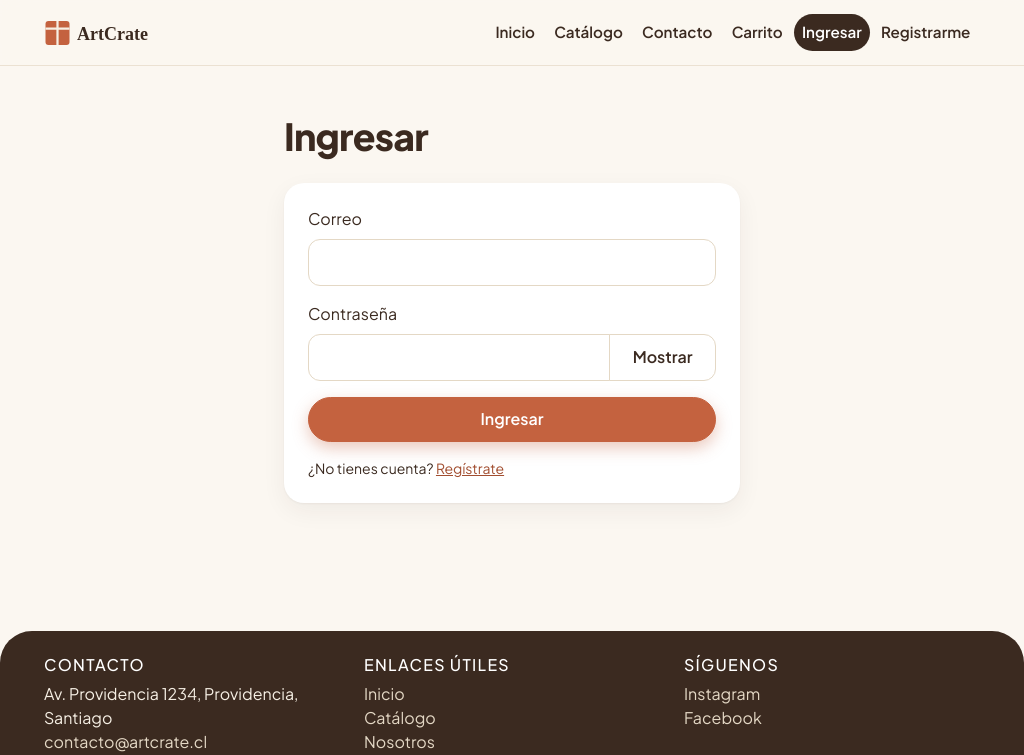
it: Login › sin contraseña no se intenta el ingreso
The image size is (1024, 755).
Type "camila@artcrate.cl" into the field labelled "Correo" at (512, 262), box [308,239,716,286]
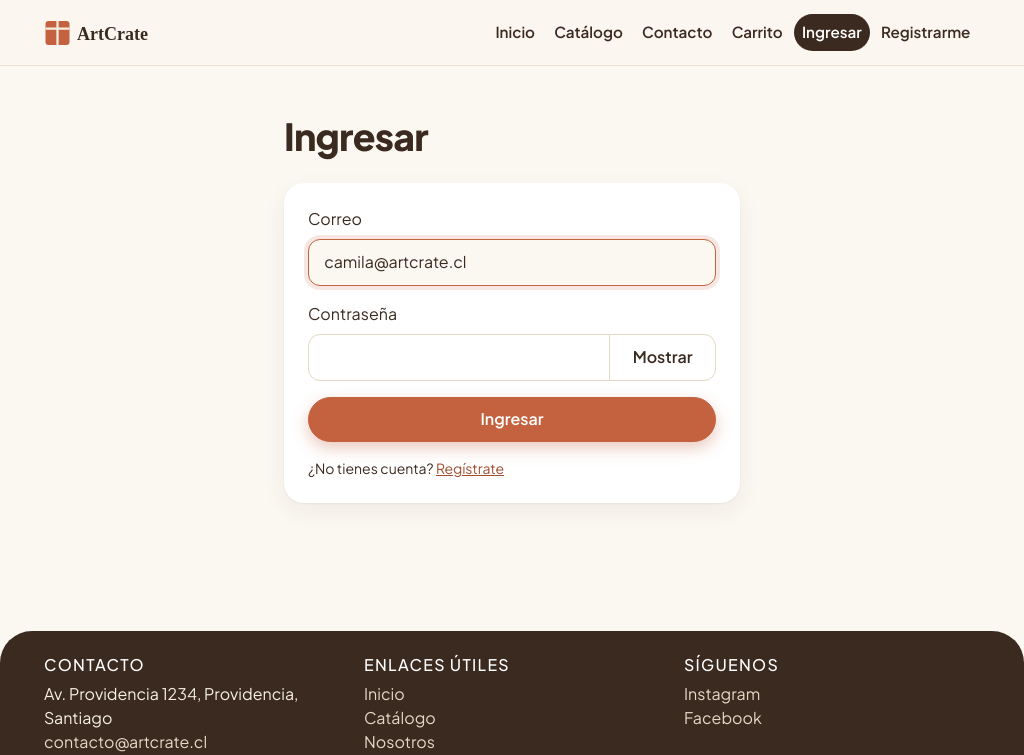
Click the button "Ingresar" at (512, 419), box [308,397,716,442]
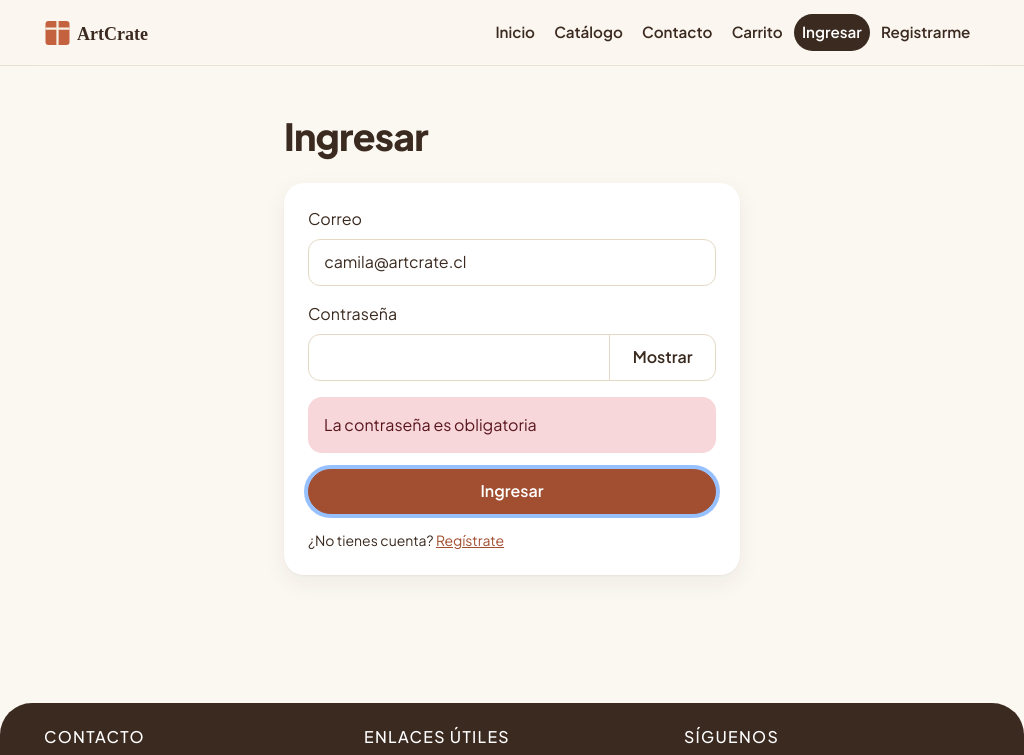
Now the message shows "contraseña es obligatoria", box [324,414,537,435]
